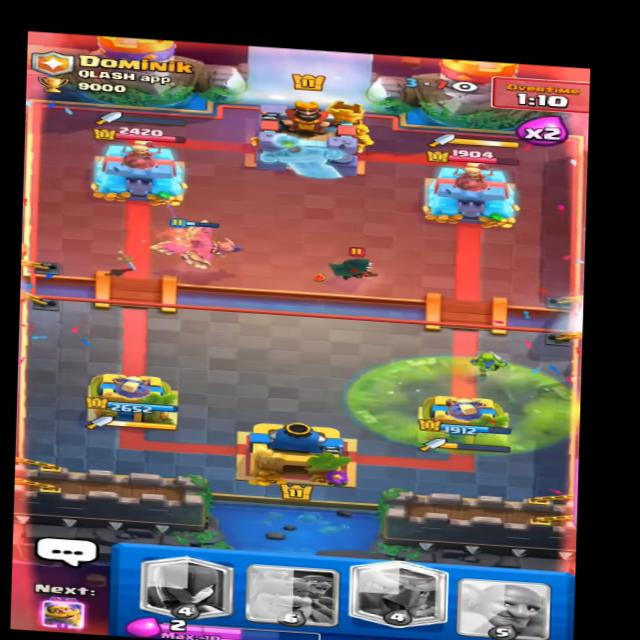bandit: (324, 242, 384, 287)
